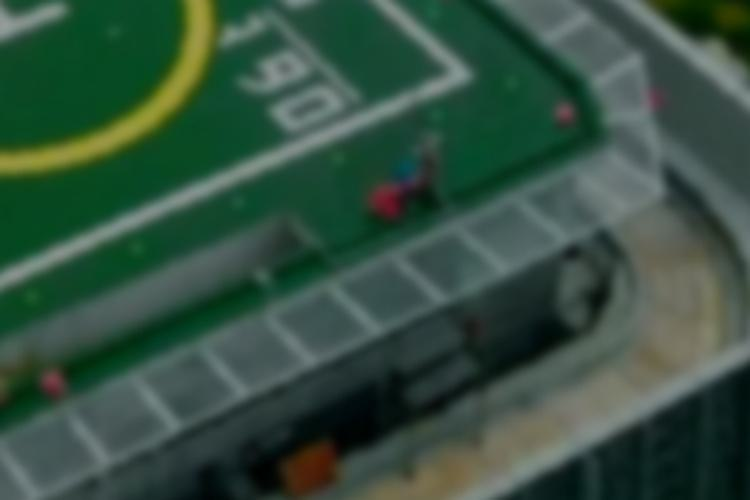Apron: (1, 9, 172, 169)
